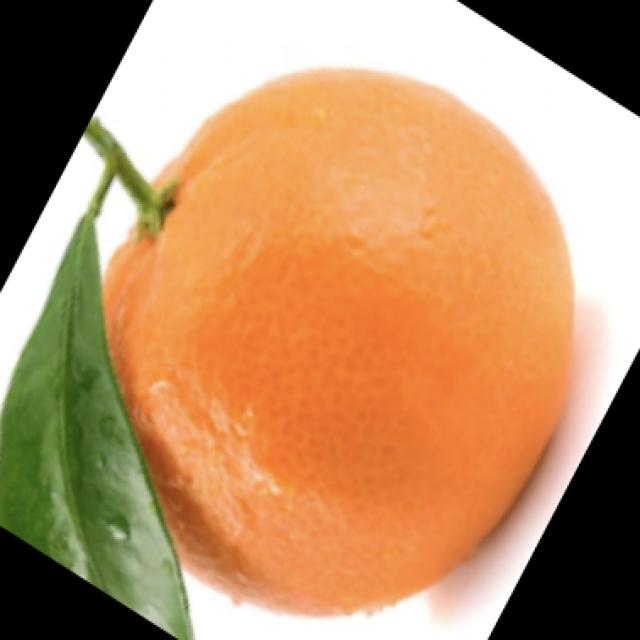fresh: (0, 41, 588, 614)
